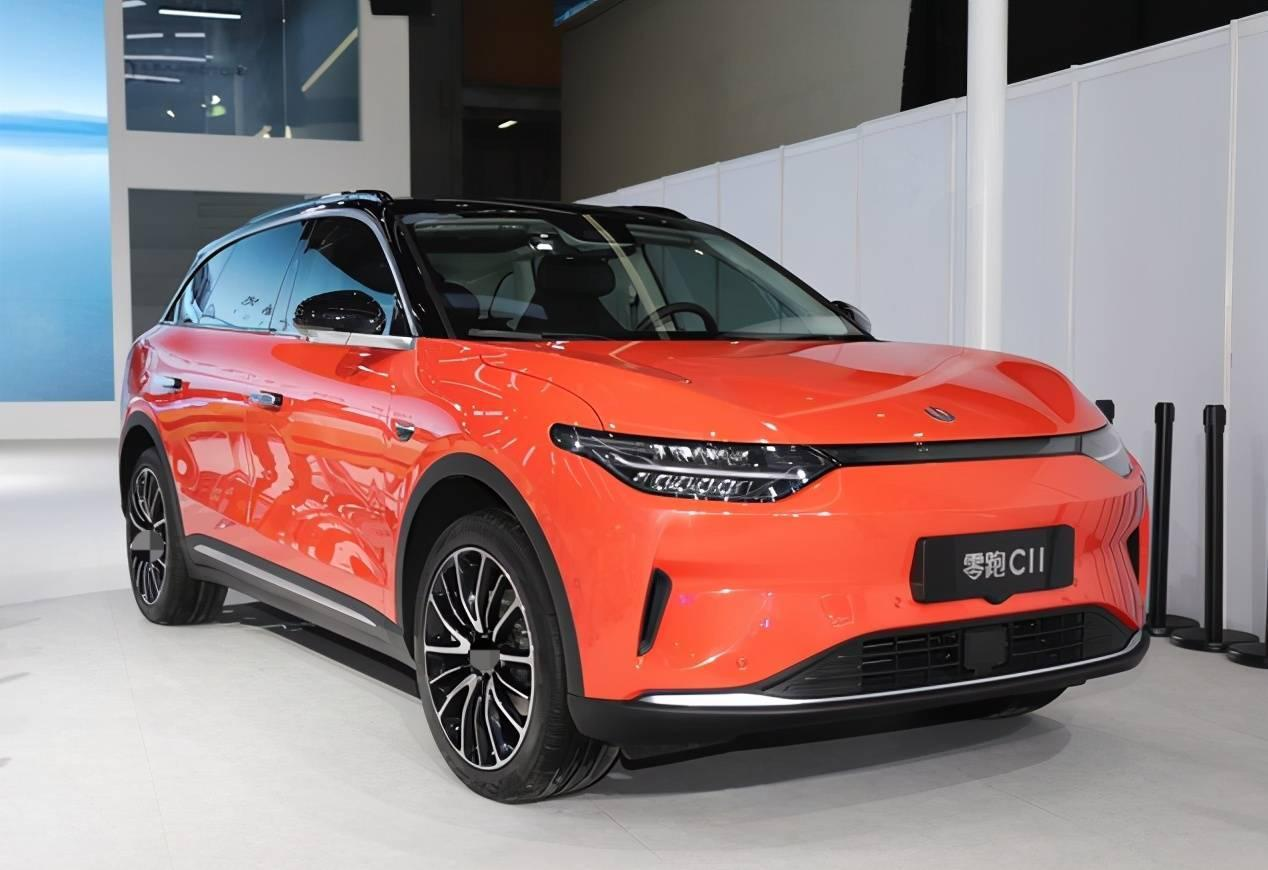LEAPMOTOR: (925, 406, 956, 423)
